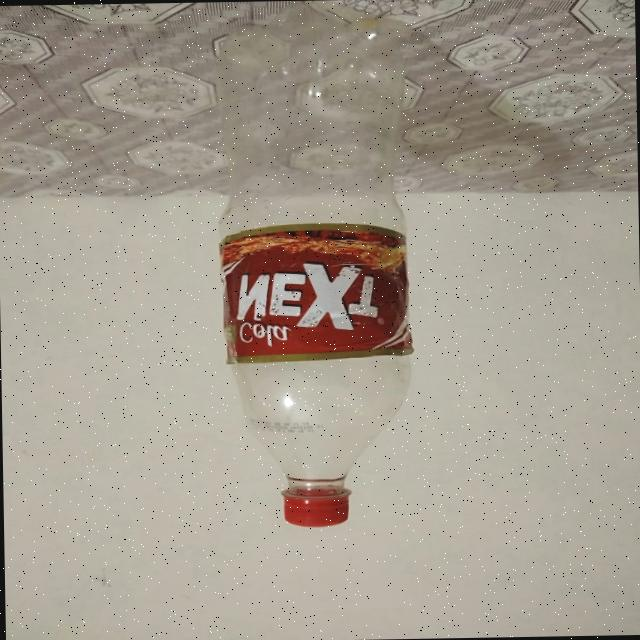bottle: (212, 0, 416, 529)
cap: (284, 492, 350, 528)
label: (220, 224, 416, 366)
